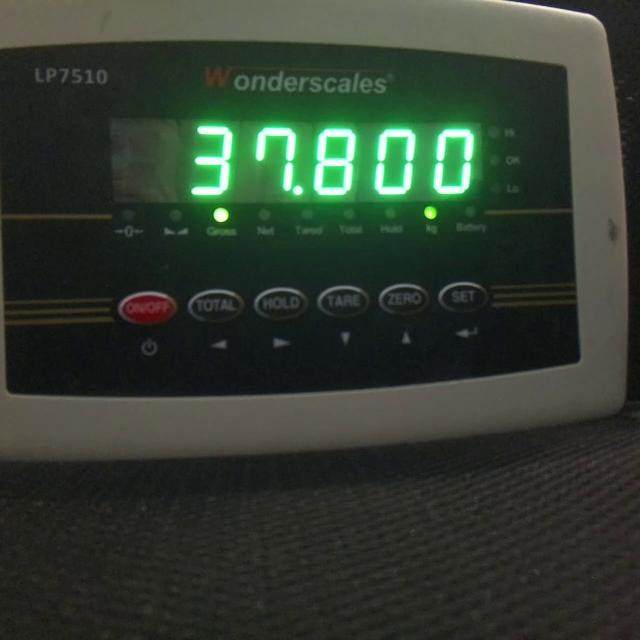.: (292, 185, 302, 196)
0: (375, 128, 416, 195), (434, 128, 474, 194)
3: (191, 124, 233, 195)
7: (255, 125, 295, 193)
8: (313, 127, 356, 195)
